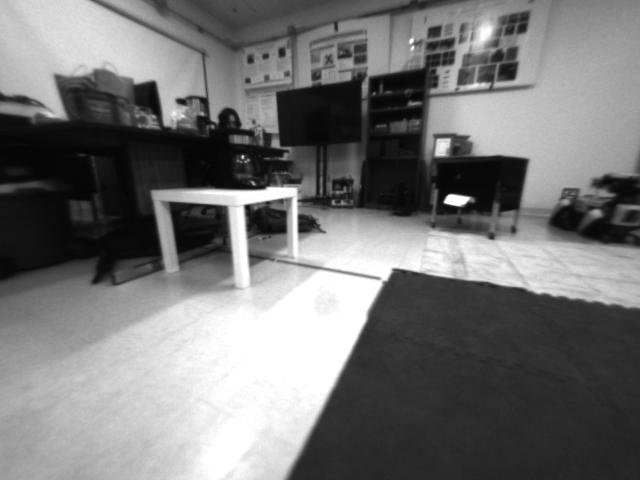coffee_pot: (215, 125, 269, 190)
